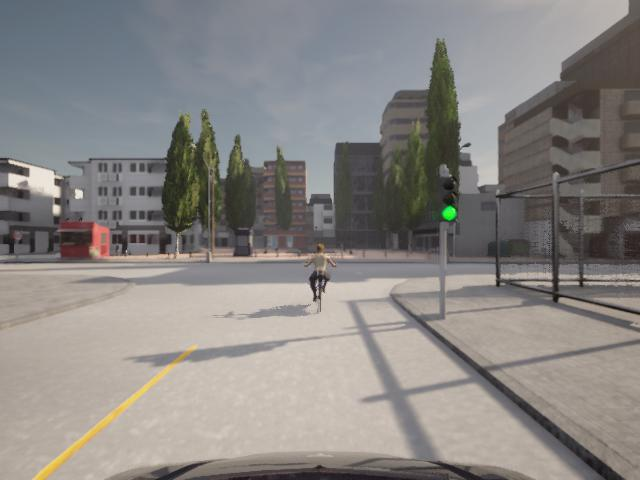3: (439, 173, 459, 221)
bike: (303, 245, 339, 313)
